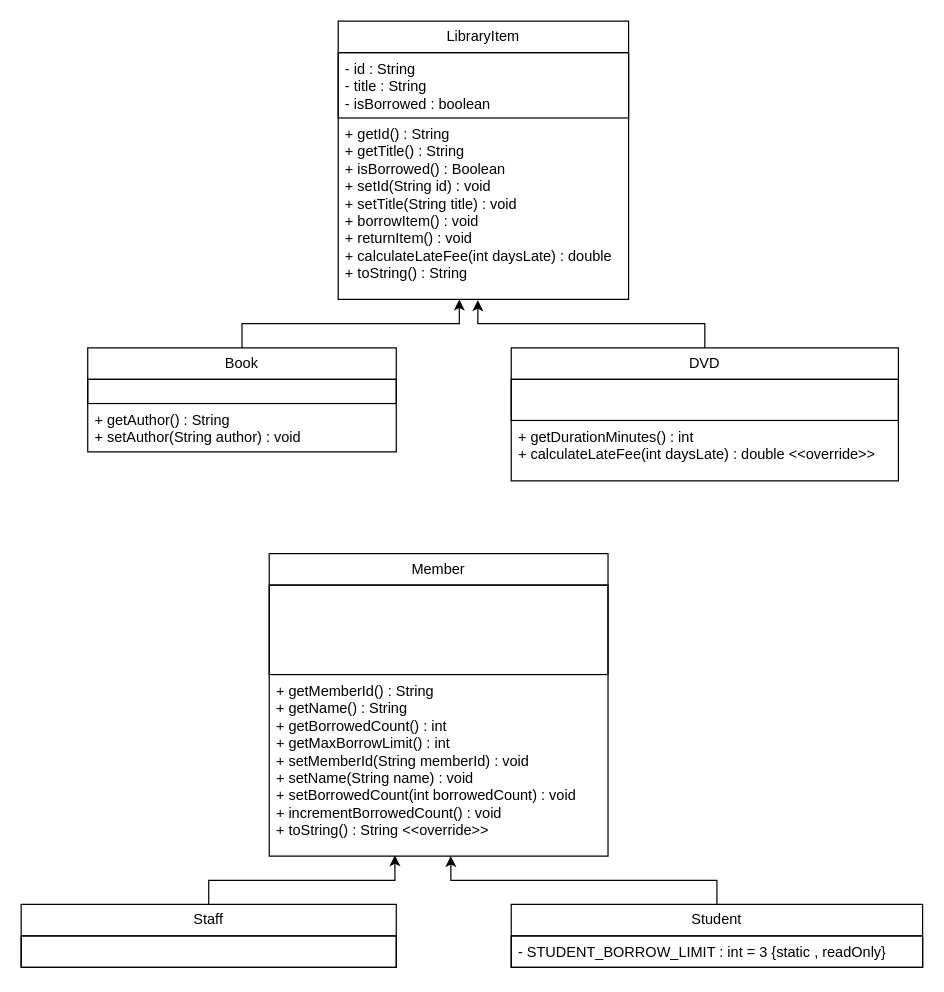
The diagram is 944 pixels wide and 992 high, and some of its shapes have lost their labels. Here are the shapes that lost their labels. From the top down, the centre of each, then its label:
At (241,391): "- author : String".
At (704,399): "- durationMinutes : int".
At (438,629): "- memberId : String - name : String - borrowedCount : int - maxBorrowLimit : int".
At (208,951): "- STAFF_BORROW_LIMIT : int = 10 {static , readOnly}".
